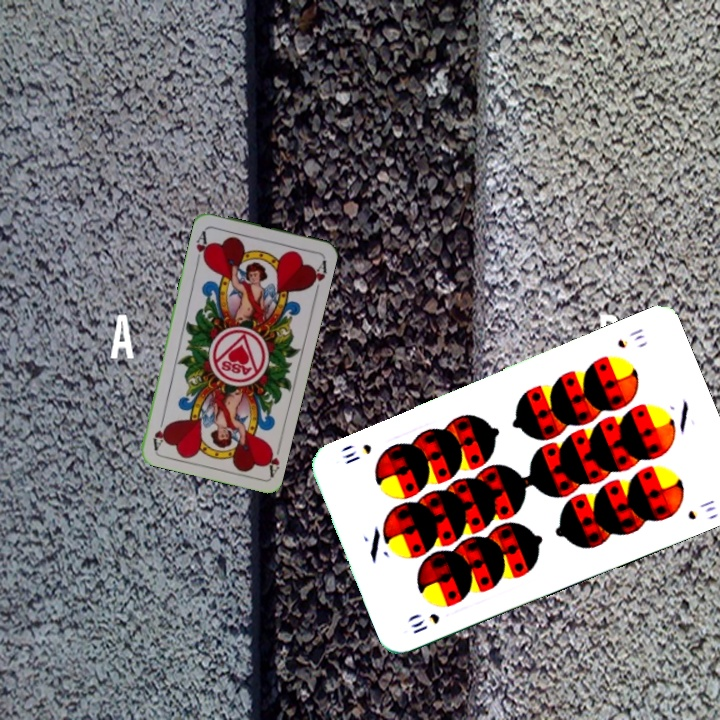HA: (261, 438, 284, 479), (192, 227, 212, 266)
S10: (407, 609, 443, 636), (613, 324, 647, 351)
